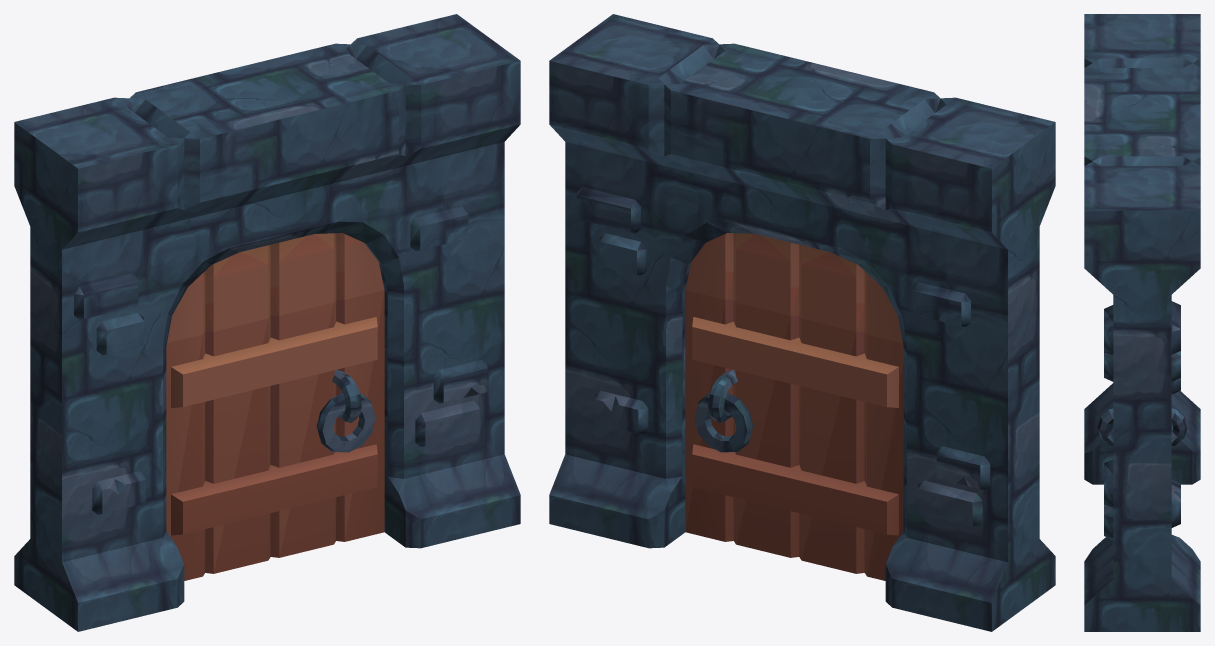
Rendered from wall_doorway.gltf.
3 views of the same model, side by side, from view 1: azimuth 30°, elevation 25°; view 2: azimuth 150°, elevation 25°; view 3: azimuth 270°, elevation 25° (orthographic). The views are drawn at different scales.
Parts seen in each view (by area): view 1: wall_doorway, wall_doorway_door; view 2: wall_doorway, wall_doorway_door; view 3: wall_doorway, wall_doorway_door.
Boxes of the visible parts, x1,y1,x2,y2 form: wall_doorway: [14, 14, 520, 631]; wall_doorway_door: [166, 233, 384, 580]; wall_doorway: [549, 14, 1055, 631]; wall_doorway_door: [685, 233, 903, 580]; wall_doorway: [1084, 14, 1200, 631]; wall_doorway_door: [1097, 408, 1187, 445].
Bounding box in the file's own units: 4 × 4 × 1.
9 materials, 1 textured.
